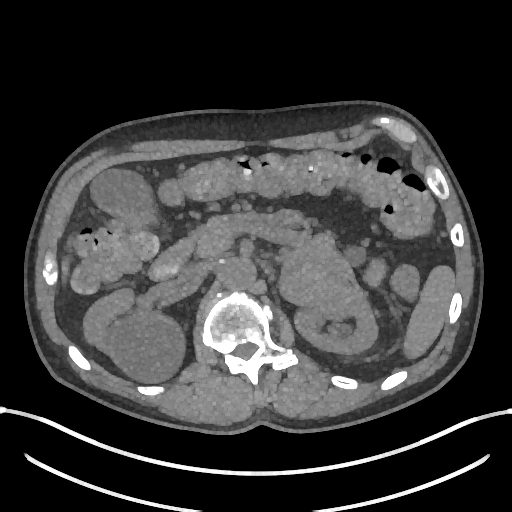Lesion: (274, 238, 367, 315)
